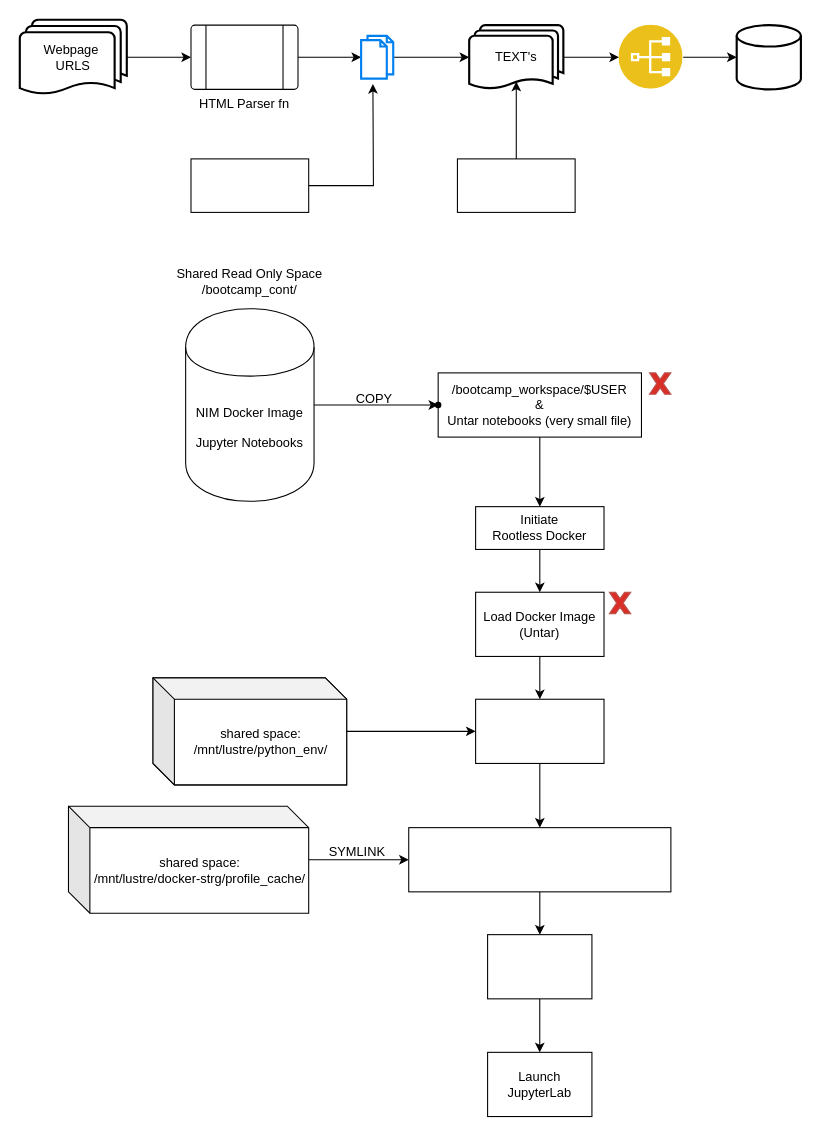
The diagram is 820 pixels wide and 1135 high, and some of its shapes have lost their labels. Here are the shapes that lost their labels. From the top down, the box of each, then its label:
(735, 24, 801, 90): VectorDB
(190, 158, 309, 212): TextSplitter
(456, 158, 575, 212): Embedding Model
(475, 698, 604, 763): Activate Conda Env
(408, 827, 671, 892): /bootcamp_workspace/$USER/.cache/nims
(487, 934, 592, 999): Find a free PORT
